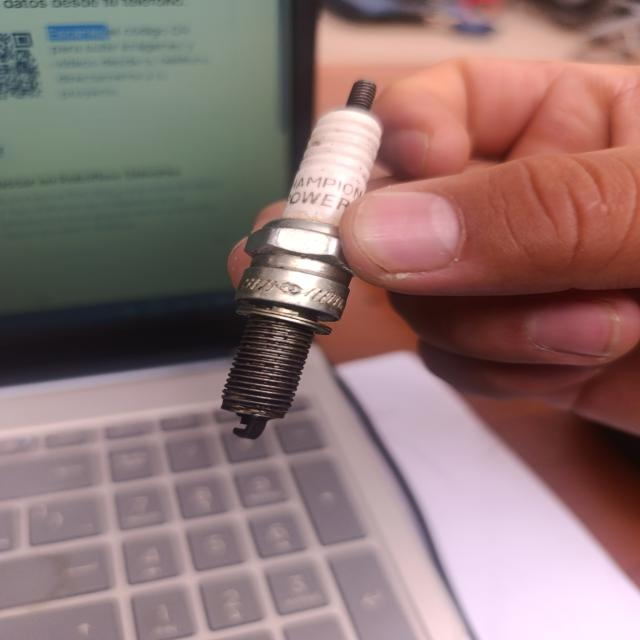bujia: (221, 80, 381, 439)
